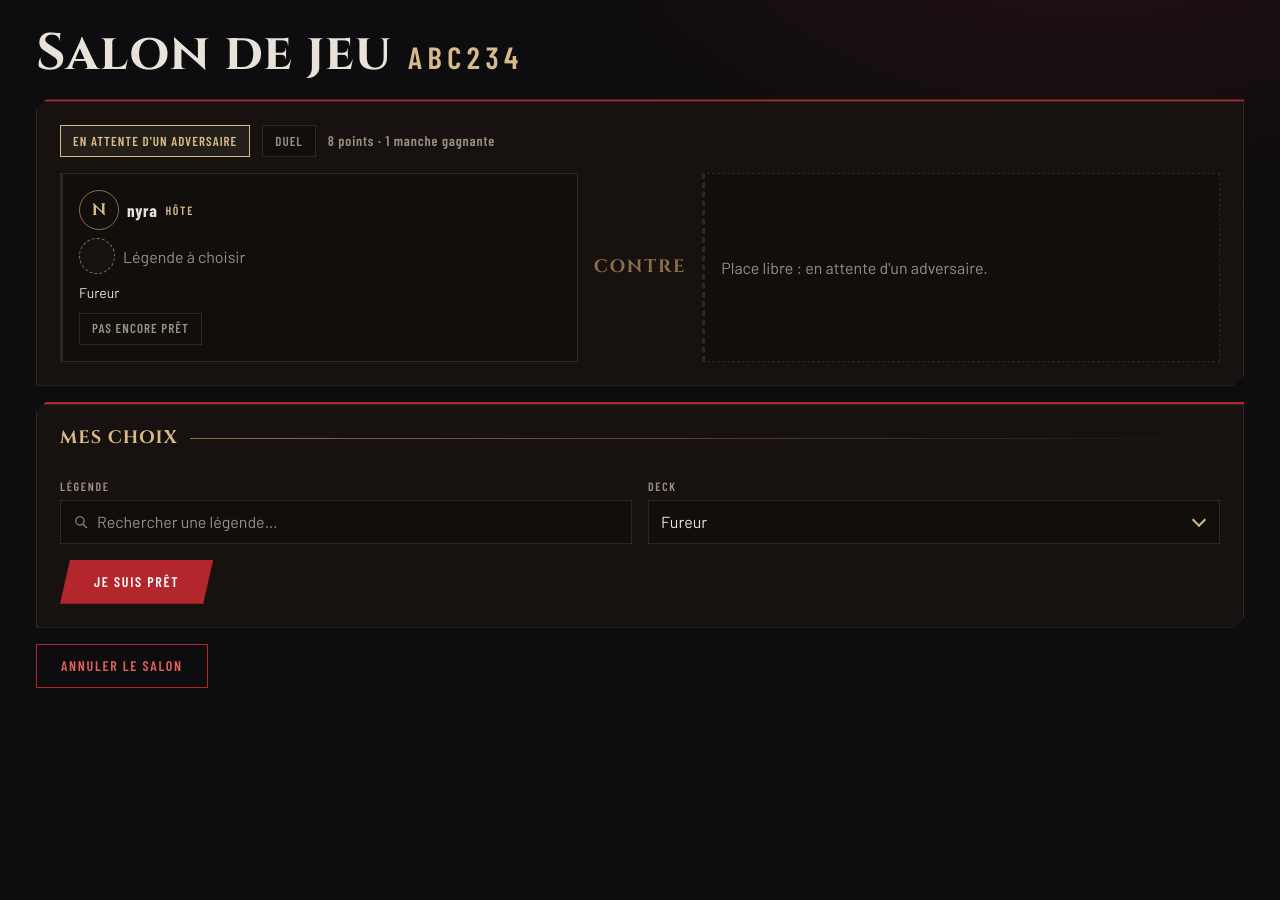
Test: RoomView › une mise à jour du polling ne vide pas la recherche de légende en cours
Type "jin" into the search field labelled "Légende".
click(358, 522); type("jin")  # box [97,509,619,535]
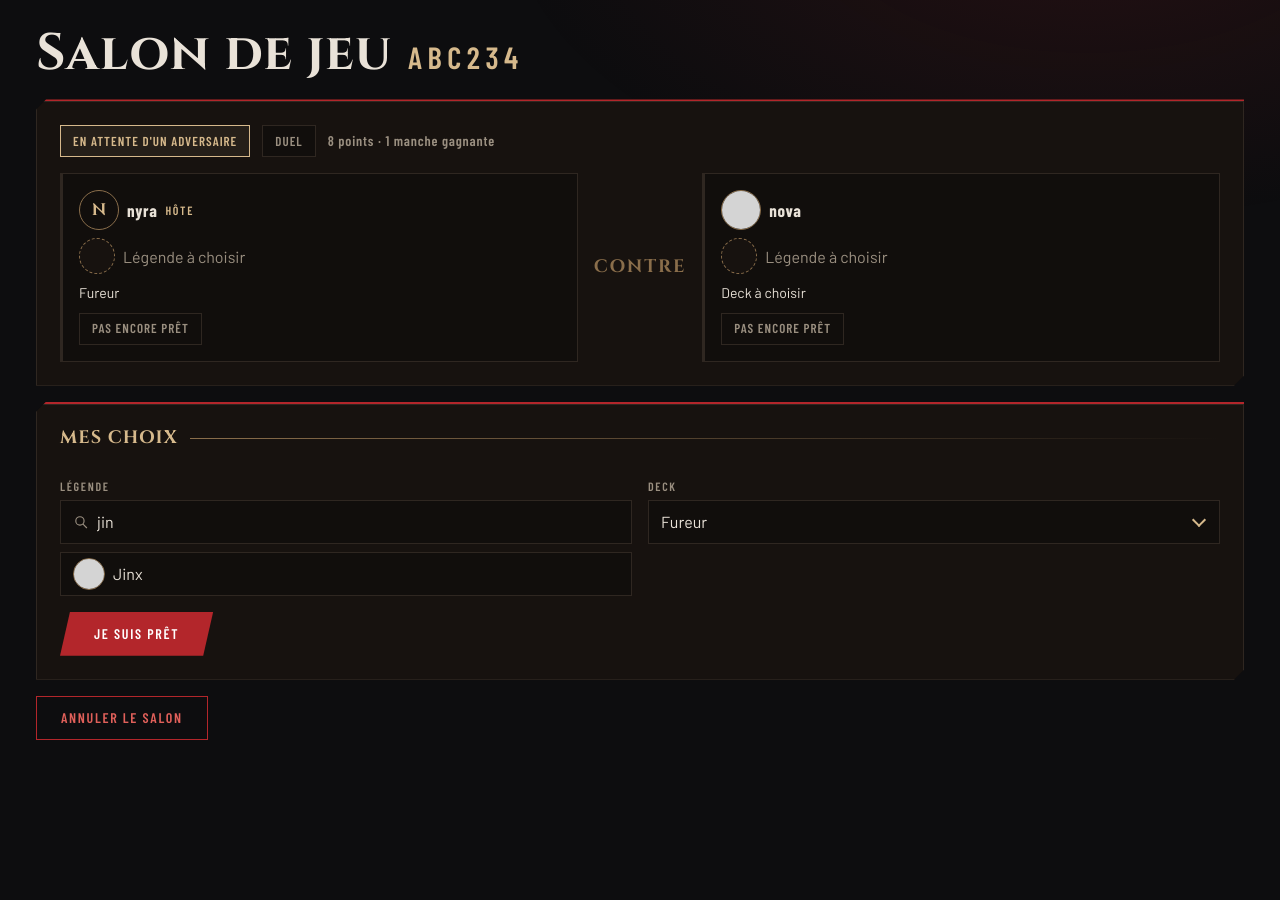
Expected: the dropdown with id "room-deck" shows "Fureur", [648,500,1220,544]
Expected: the text "nova" is shown, [769,197,802,224]
Expected: the number of buttons with class "salon-legend-option" is 1, [60,552,632,596]
